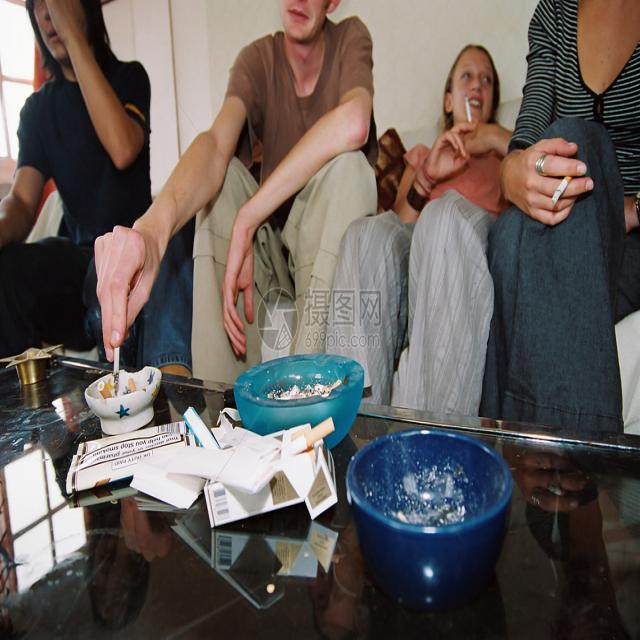cigarette: (550, 180, 572, 207), (112, 342, 124, 379), (463, 95, 475, 126)
